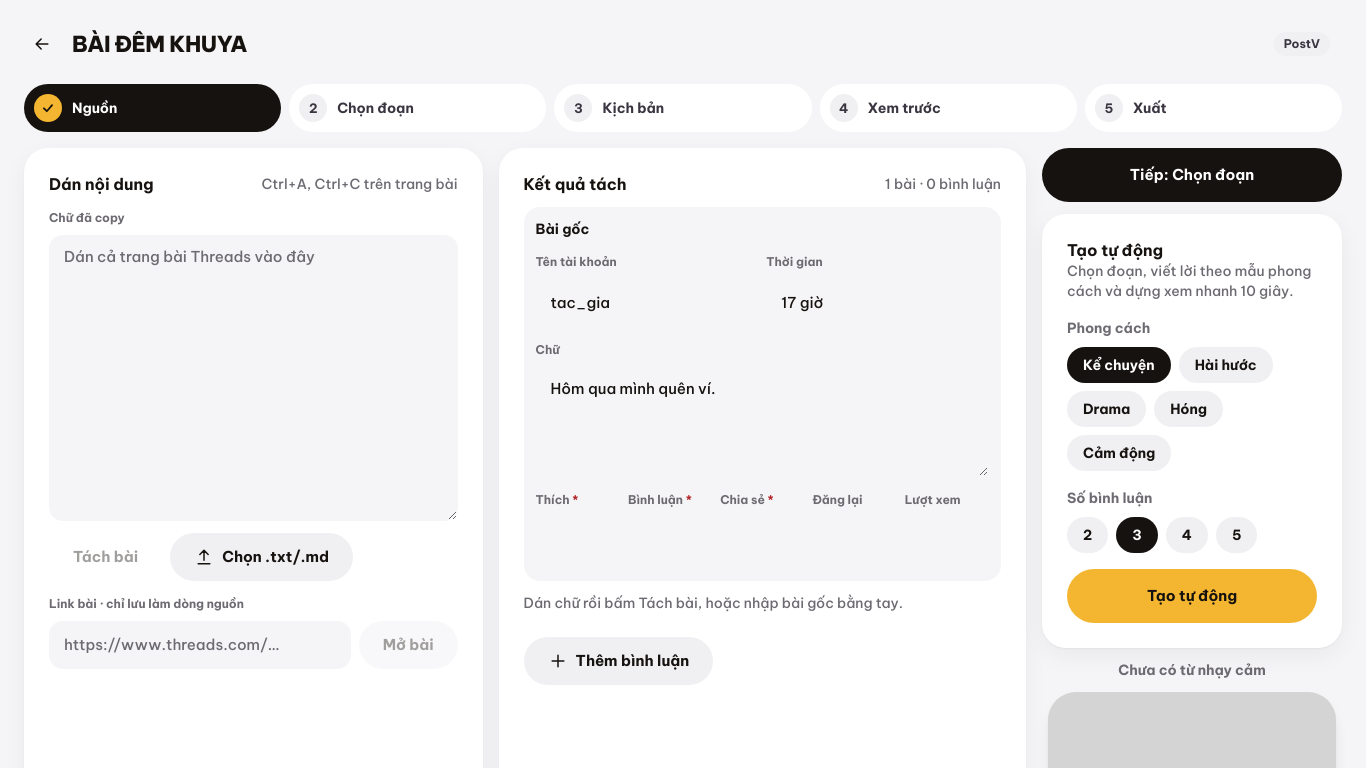
Test: Bước 1 · Nhập nguồn › embed code only gives the link: stored, never opened by the app
Type "<blockquote ...>" into the text box labelled "Chữ đã copy". click: (253, 378)
box: [49,235,458,521]
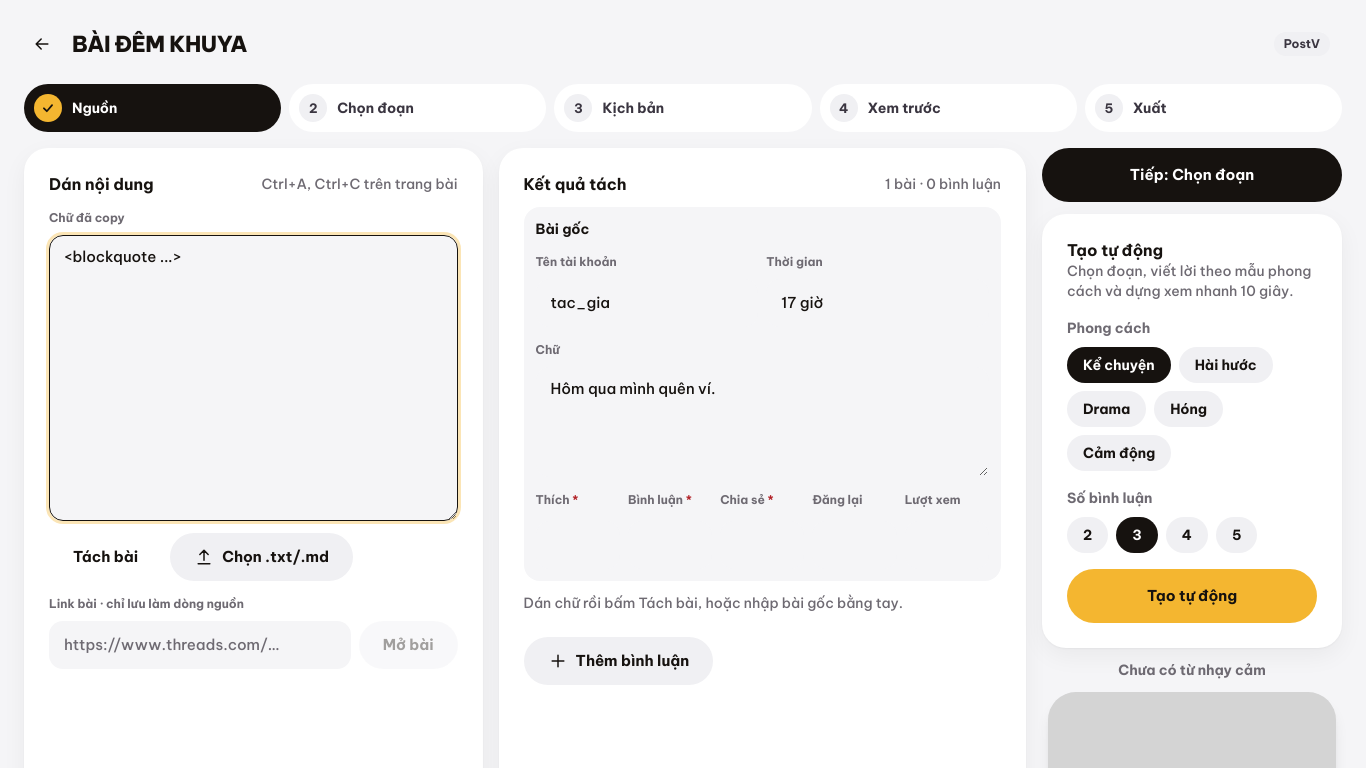
Click the button "Tách bài". click: (106, 557)
box: [49,533,162,581]
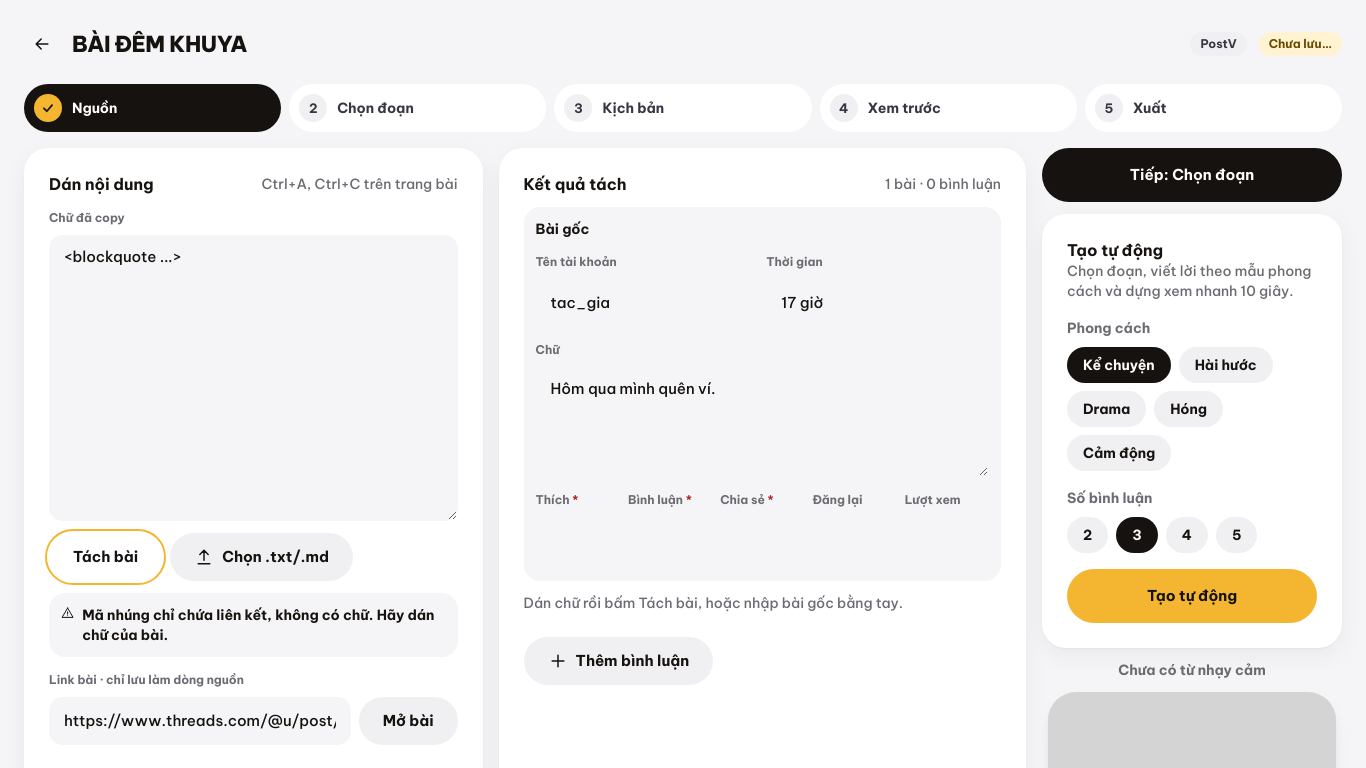
Check: the list item "Mã nhúng chỉ chứa liên kết" is shown, box [82,606,434,644]
Check: the field labelled "Link bài · chỉ lưu làm dòng nguồn" holds "https://www.threads.com/@u/post/X", box [49,697,351,745]
